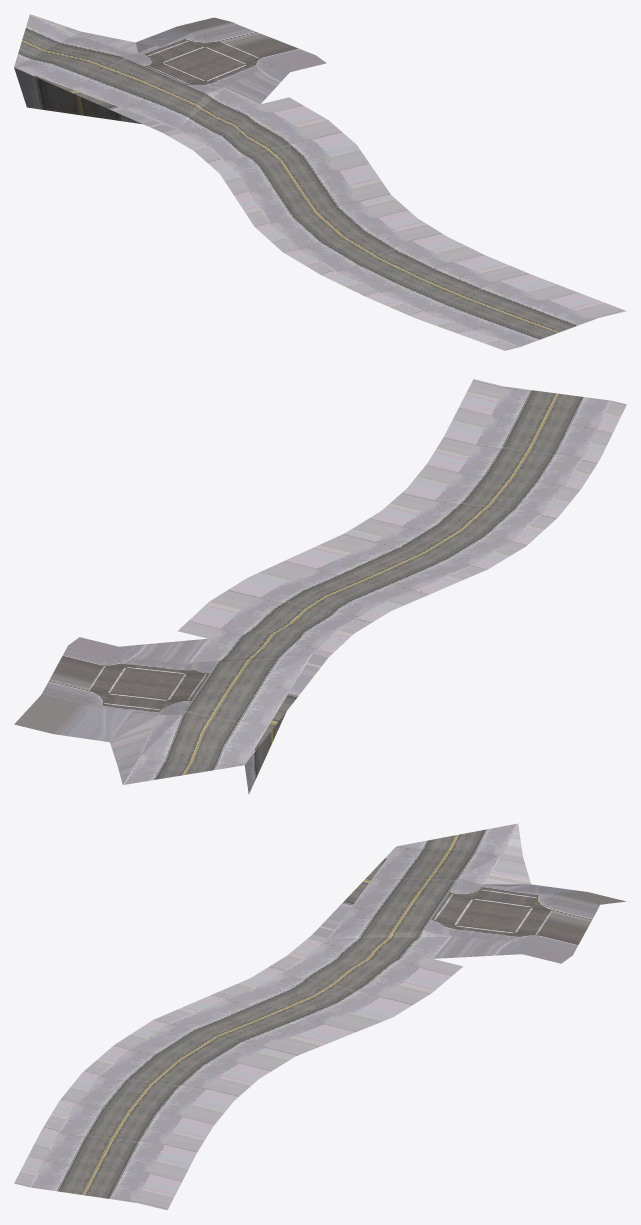
File: lodassroad107.obj
The picture shows the model from 3 angles, top to bottom: view 1: azimuth 30°, elevation 25°; view 2: azimuth 150°, elevation 25°; view 3: azimuth 330°, elevation 25°; orthographic projection. The views are drawn at different scales.
Parts seen in each view (by area): view 1: lodasSroad107; view 2: lodasSroad107; view 3: lodasSroad107.
Boxes of the visible parts, <box> form: lodasSroad107: <box>14,14,626,350</box>; lodasSroad107: <box>14,379,626,794</box>; lodasSroad107: <box>14,823,626,1210</box>.
Bounding box in the file's own units: 51.11 × 9.65 × 179.
3 materials, 3 textured.
